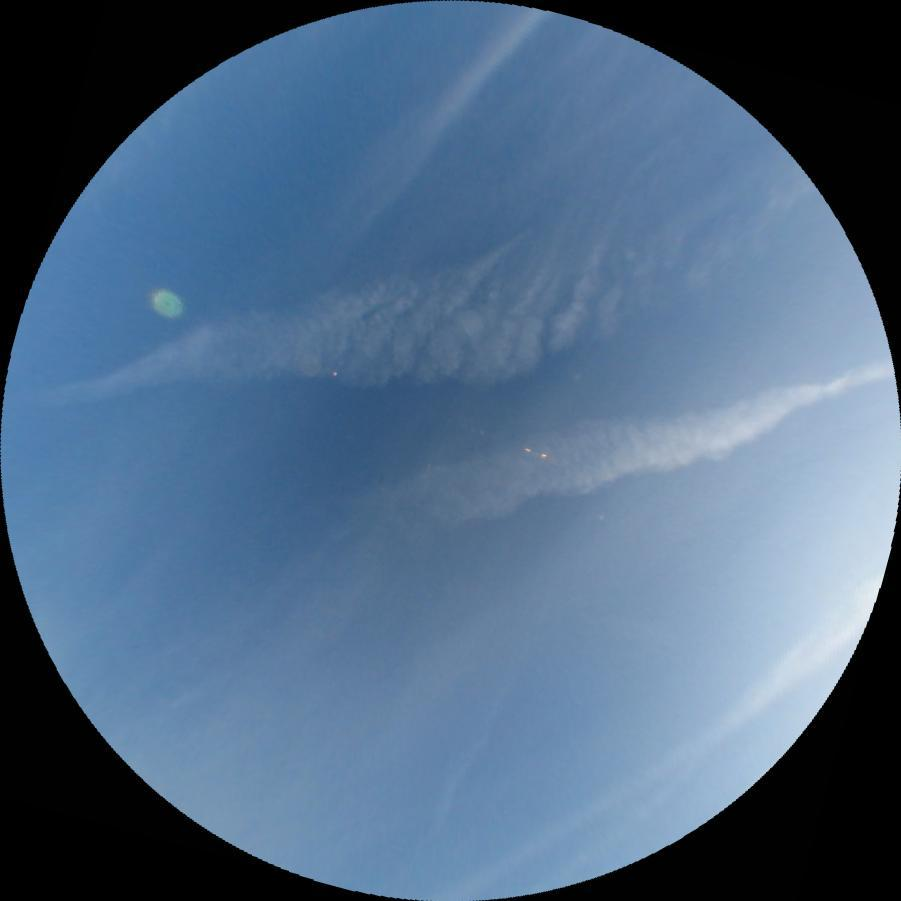contrail veryold: (8, 97, 845, 554), (431, 569, 897, 901), (334, 320, 901, 571)
